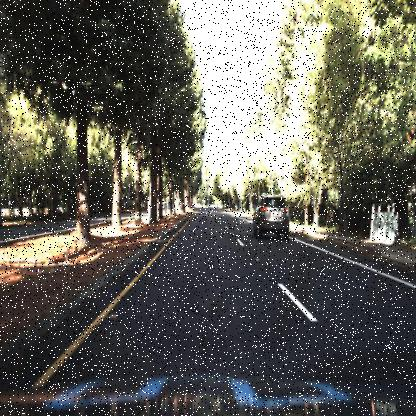car: (252, 194, 289, 242)
